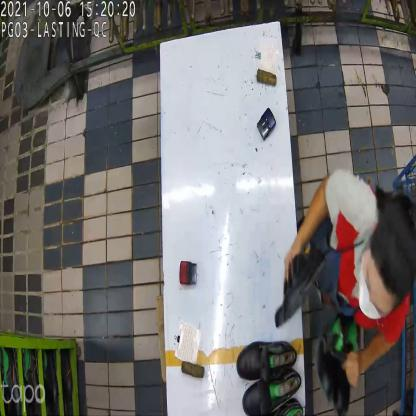shoes: (234, 337, 303, 415), (316, 306, 362, 416), (274, 241, 323, 330)
stamp: (257, 105, 277, 142), (178, 257, 197, 288)
